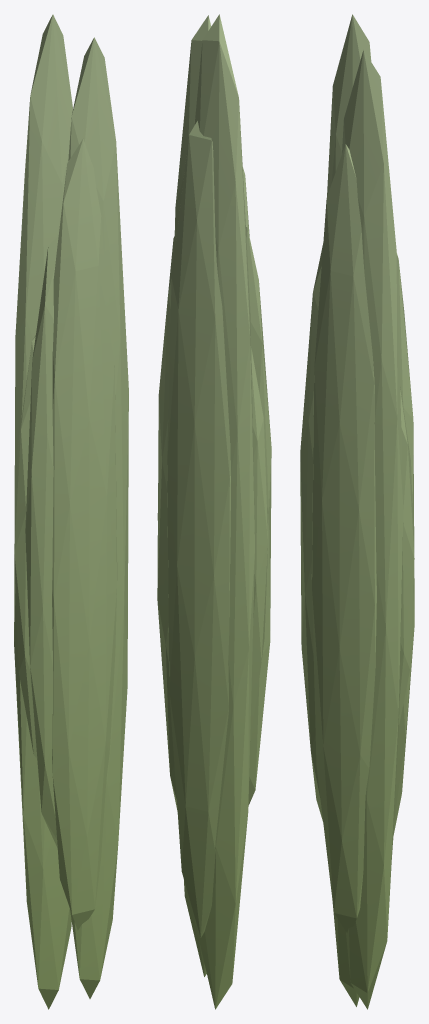
Rendered from sansevieria-trifasciata.glb.
3 views of the same model, side by side, from view 1: azimuth 30°, elevation 25°; view 2: azimuth 150°, elevation 25°; view 3: azimuth 330°, elevation 25° (orthographic).
Parts seen in each view (by area): view 1: blade2, blade5, blade1, blade3, blade4; view 2: blade6, blade5, blade7, blade3, blade4, blade1; view 3: blade2, blade1, blade3, blade5, blade0, blade7.
Part boxes in pixels (bbox=[...]): blade2: bbox=[52, 139, 117, 930]; blade5: bbox=[14, 14, 72, 1009]; blade1: bbox=[68, 37, 128, 998]; blade3: bbox=[25, 235, 58, 847]; blade4: bbox=[14, 335, 36, 758]; blade6: bbox=[167, 121, 230, 937]; blade5: bbox=[194, 14, 254, 1009]; blade7: bbox=[157, 229, 177, 811]; blade3: bbox=[245, 224, 271, 804]; blade4: bbox=[250, 348, 267, 741]; blade1: bbox=[174, 15, 211, 976]; blade2: bbox=[311, 144, 376, 932]; blade1: bbox=[342, 50, 403, 1009]; blade3: bbox=[300, 243, 323, 820]; blade5: bbox=[327, 14, 371, 1006]; blade0: bbox=[399, 388, 414, 725]; blade7: bbox=[393, 253, 414, 837].
Size of the model in its own units: 0.09 by 0.7729 by 0.0533.
